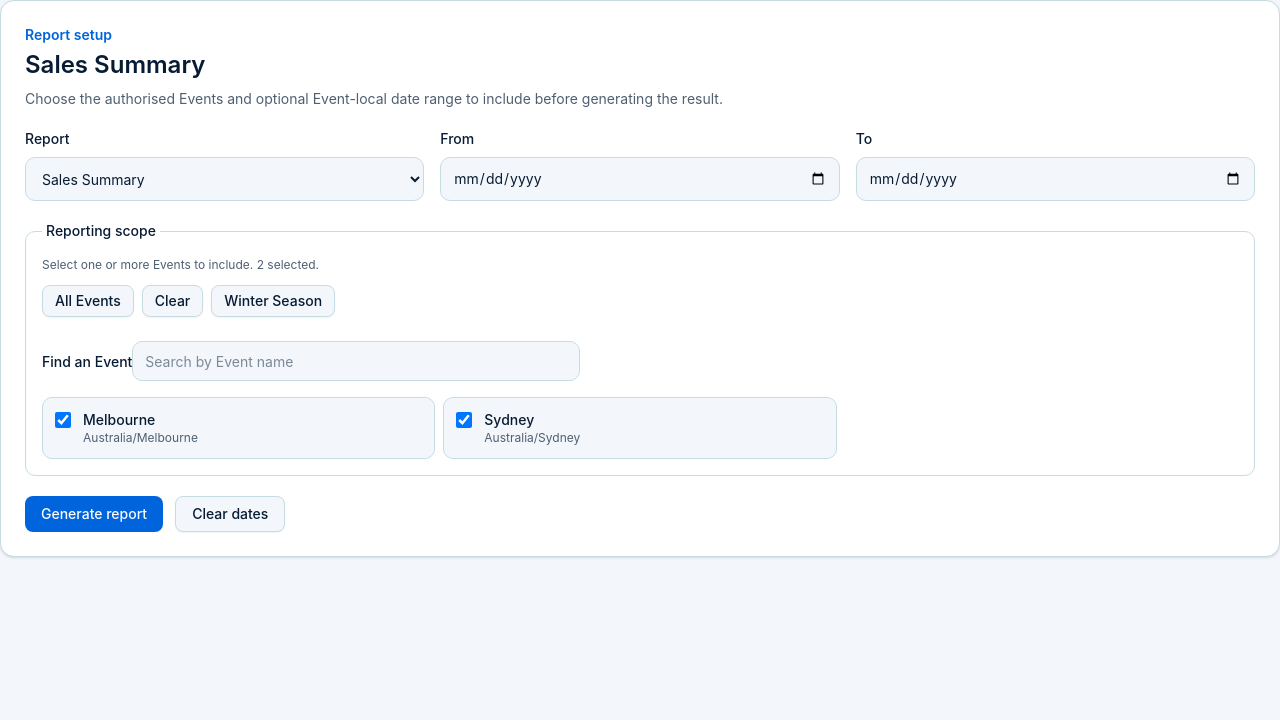
PortfolioReportsWorkspace › shows multiple Events in one organisational report
The width and height of the screenshot is (1280, 720).
Expected: the heading "Sales Summary" is shown, [25,50,205,79]
Expected: the text "Report setup" is shown, [25,26,112,43]
Click the button "Generate report": (94, 514) [25,496,163,532]
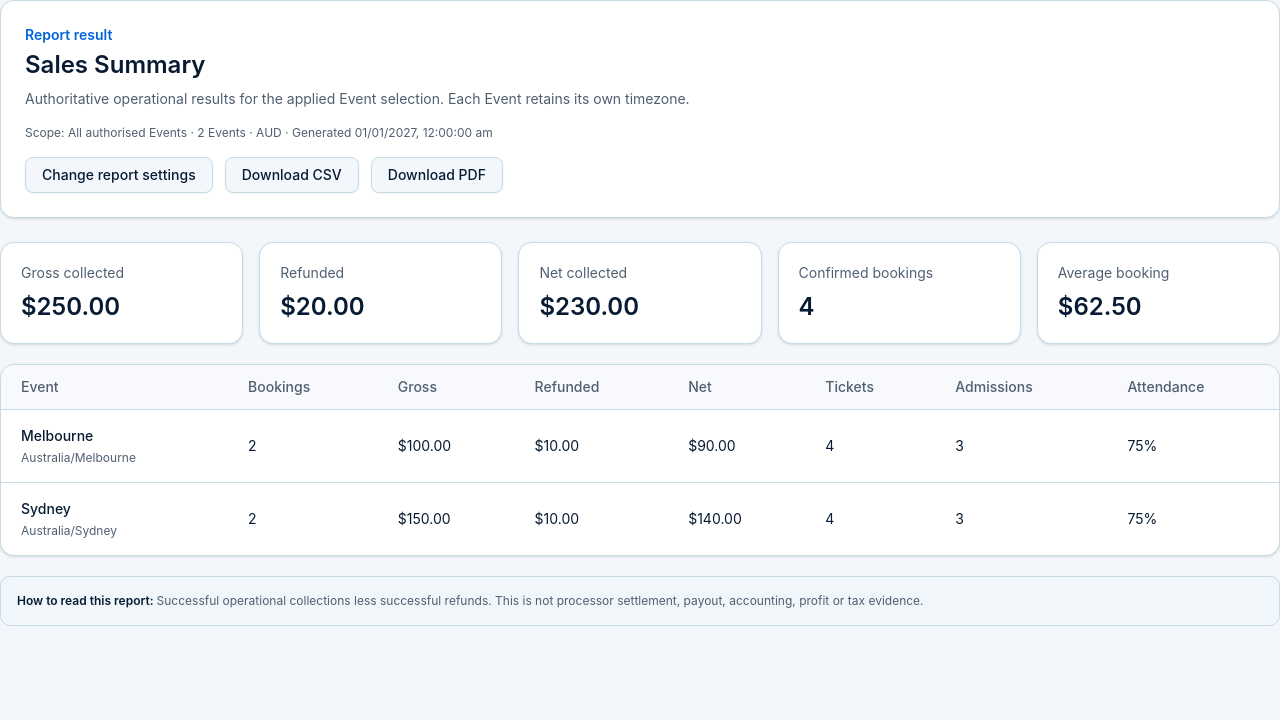
Expected: the text "Melbourne" is shown, [21,427,93,444]
Expected: the text "Report result" is shown, [25,26,112,43]
Expected: the text "$230.00" is shown, [539,292,639,321]
